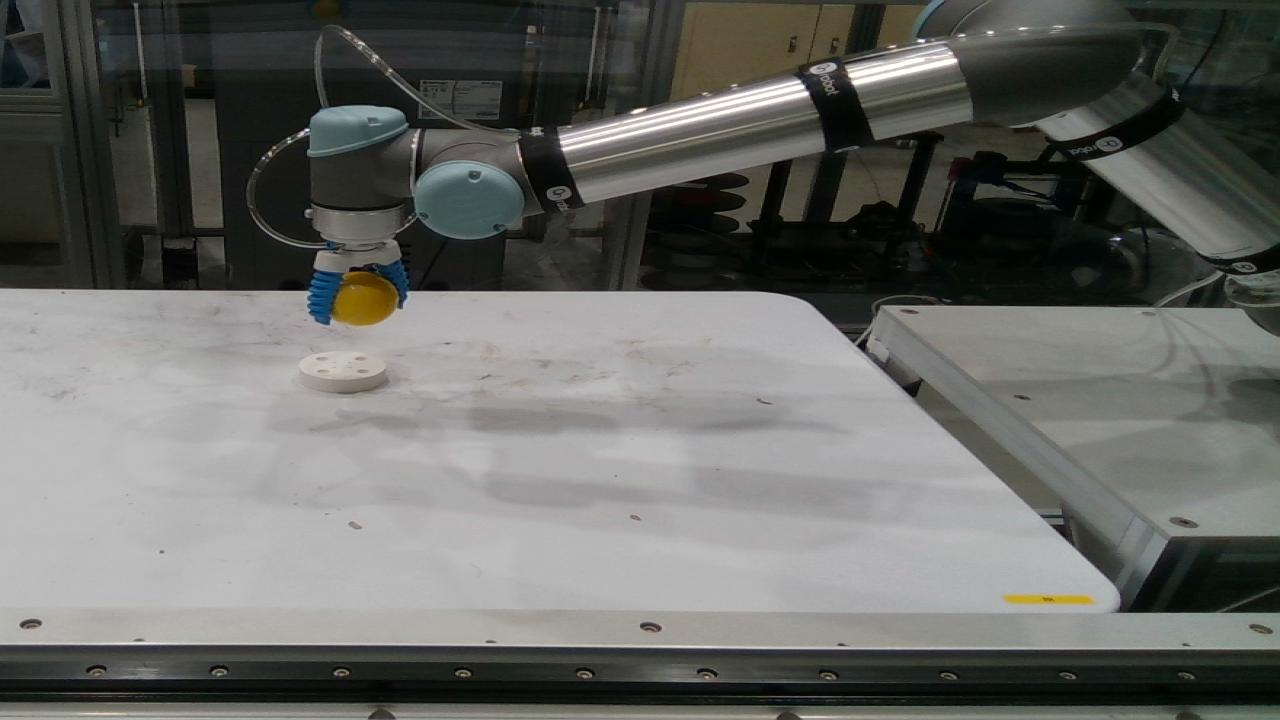UR5: (311, 0, 1279, 334)
gripper_left: (373, 260, 408, 309)
gripper_right: (307, 271, 344, 325)
target: (299, 351, 388, 394), (333, 271, 399, 325)
